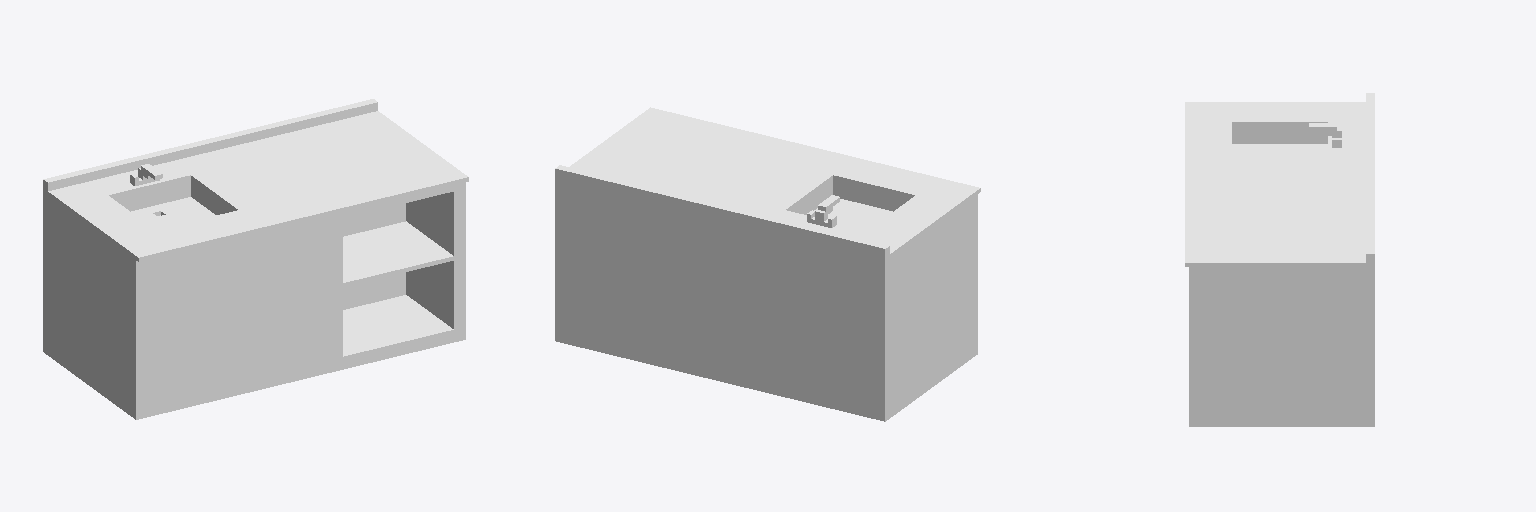
Rendered from workingtable.obj.
The picture shows the model from 3 angles: view 1: azimuth 30°, elevation 25°; view 2: azimuth 150°, elevation 25°; view 3: azimuth 270°, elevation 25°; orthographic projection.
Parts seen in each view (by area): view 1: workingtable; view 2: workingtable; view 3: workingtable.
Part boxes in pixels (bbox=[...]): workingtable: bbox=[43, 99, 468, 419]; workingtable: bbox=[555, 107, 980, 421]; workingtable: bbox=[1185, 93, 1374, 426].
Size of the model in its own units: 80 by 42 by 40.